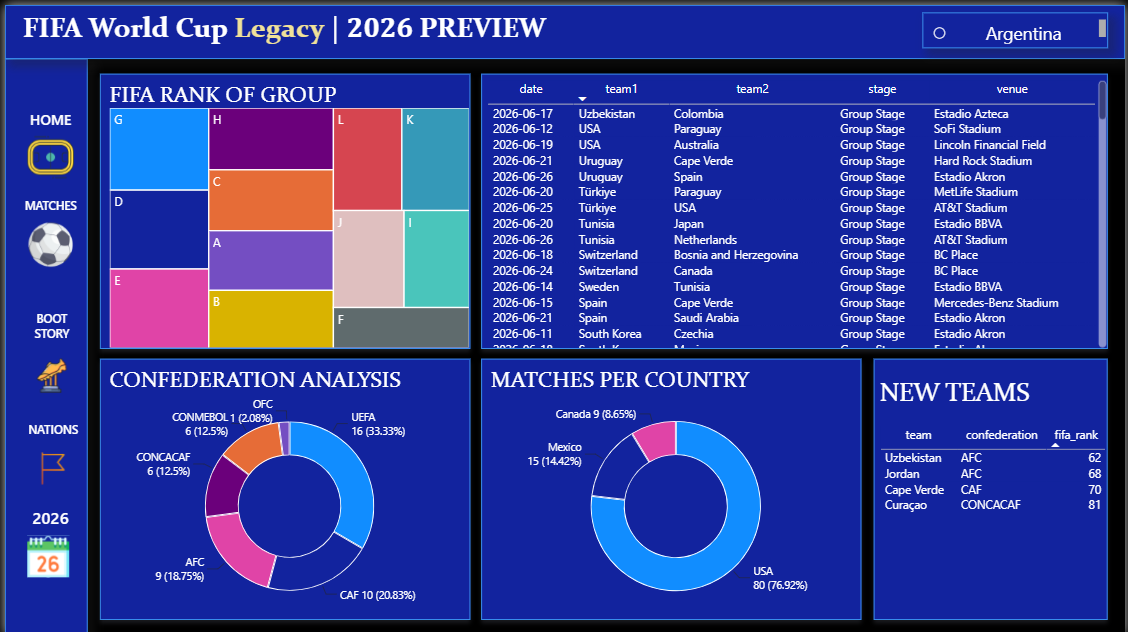

This screenshot's page, from the dashboard's own definition file:
{"tool":"powerbi","page":{"name":"2026 Preview","canvas":[1280,720],"ordinal":4},"visuals":[{"type":"treemap","title":"FIFA RANK OF GROUP","fields":{"Group":["fixtures.group"],"Values":["Avg(fixtures.fifa_rank_combined)"]},"box":[108.6,78.6,422.9,314.3],"z":0},{"type":"donutChart","title":"CONFEDERATION ANALYSIS","fields":{"Category":["fifa_football teams.confederation"],"Y":["Count(fifa_football teams.team)"]},"box":[108.6,404.3,422.9,298.6],"z":1000},{"type":"donutChart","title":"MATCHES PER COUNTRY","fields":{"Category":["fixtures.country"],"Y":["CountNonNull(fixtures.country)"]},"box":[544.3,404.3,434.3,298.6],"z":2000},{"type":"tableEx","title":"NEW TEAMS","fields":{"Values":["fifa_football teams.team","fifa_football teams.confederation","fifa_football teams.fifa_rank"]},"box":[992.9,404.3,267.1,298.6],"z":3000},{"type":"tableEx","fields":{"Values":["fixtures.date","fixtures.team1","fixtures.team2","fixtures.stage","fixtures.venue"]},"box":[544.3,78.6,715.7,314.3],"z":4000},{"type":"shape","box":[0,61.4,94.3,658.6],"z":5000},{"type":"actionButton","title":"HOME","box":[21.4,120,61.4,85.7],"z":6000},{"type":"actionButton","title":"MATCHES","box":[21.4,220,61.4,85.7],"z":7000},{"type":"actionButton","title":"BOOT STORY","box":[22.9,348.6,61.4,100],"z":8000},{"type":"actionButton","title":"NATIONS","box":[24.3,475.7,61.4,85.7],"z":9000},{"type":"actionButton","title":"2026","box":[21.4,572.9,61.4,85.7],"z":10000},{"type":"textbox","box":[0,0,1280,61.4],"z":10001},{"type":"listSlicer","fields":{"Values":["matches.country"]},"box":[1048.3,8.9,211.8,40.9],"z":10002}]}

Visuals, with their boxes in screenshot pixels (x1, y1, x2, y2), scaled from the page's 1280x720 canvas onto the 1128x632 screenshot:
"FIFA RANK OF GROUP" treemap: bbox(96, 69, 468, 345)
"CONFEDERATION ANALYSIS" donutChart: bbox(96, 355, 468, 617)
"MATCHES PER COUNTRY" donutChart: bbox(480, 355, 862, 617)
"NEW TEAMS" tableEx: bbox(875, 355, 1110, 617)
tableEx - fixtures.date x fixtures.team1: bbox(480, 69, 1110, 345)
shape: bbox(0, 54, 83, 631)
"HOME" actionButton: bbox(19, 105, 73, 181)
"MATCHES" actionButton: bbox(19, 193, 73, 268)
"BOOT STORY" actionButton: bbox(20, 306, 74, 394)
"NATIONS" actionButton: bbox(21, 418, 76, 493)
"2026" actionButton: bbox(19, 503, 73, 578)
textbox: bbox(0, 0, 1127, 54)
listSlicer - matches.country: bbox(924, 8, 1110, 44)
